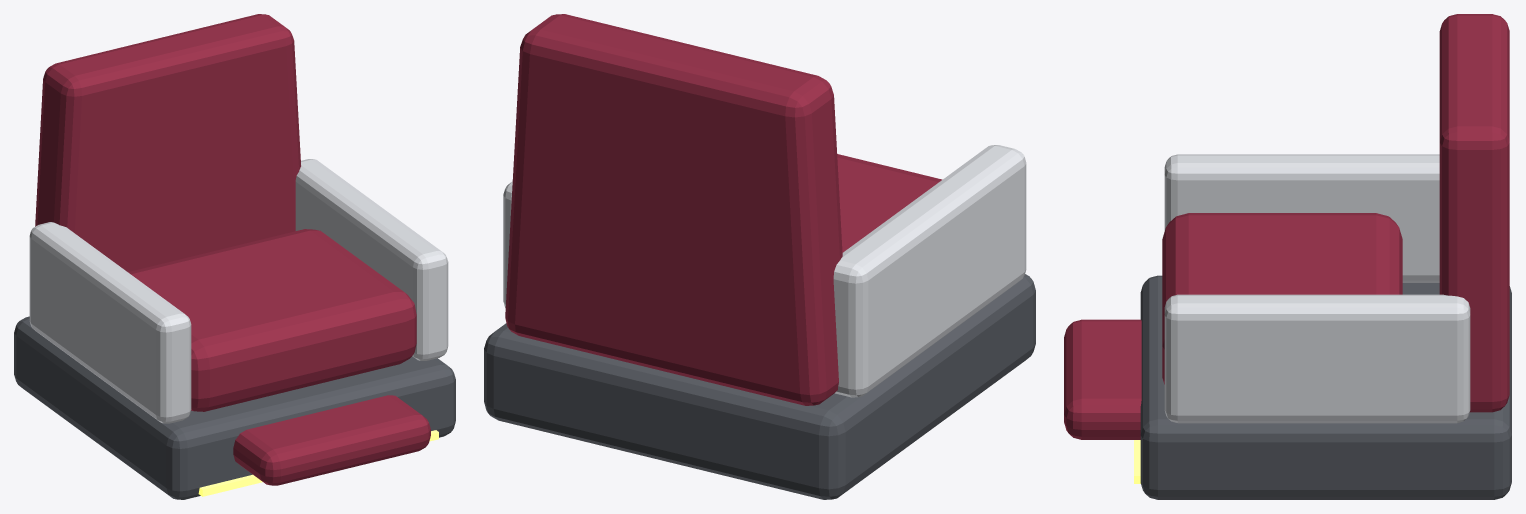
File: armchair_recliner.glb
3 views of the same model, side by side, from view 1: azimuth 30°, elevation 25°; view 2: azimuth 150°, elevation 25°; view 3: azimuth 270°, elevation 25° (orthographic). The views are drawn at different scales.
Visible parts, largest first — view 1: GD_armchair_recliner__m1, GD_armchair_recliner__m2, GD_armchair_recliner__m0, GD_armchair_recliner__m3; view 2: GD_armchair_recliner__m1, GD_armchair_recliner__m0, GD_armchair_recliner__m2; view 3: GD_armchair_recliner__m2, GD_armchair_recliner__m1, GD_armchair_recliner__m0.
Boxes of the visible parts, bbox=[...] form: GD_armchair_recliner__m1: bbox=[35, 14, 430, 485]; GD_armchair_recliner__m2: bbox=[29, 159, 448, 423]; GD_armchair_recliner__m0: bbox=[14, 316, 455, 499]; GD_armchair_recliner__m3: bbox=[198, 430, 438, 496]; GD_armchair_recliner__m1: bbox=[505, 14, 942, 405]; GD_armchair_recliner__m0: bbox=[484, 274, 1035, 499]; GD_armchair_recliner__m2: bbox=[503, 145, 1026, 397]; GD_armchair_recliner__m2: bbox=[1164, 154, 1470, 423]; GD_armchair_recliner__m1: bbox=[1064, 14, 1509, 439]; GD_armchair_recliner__m0: bbox=[1140, 275, 1511, 499].
Size of the model in its own units: 0.86 by 0.9 by 1.03.
